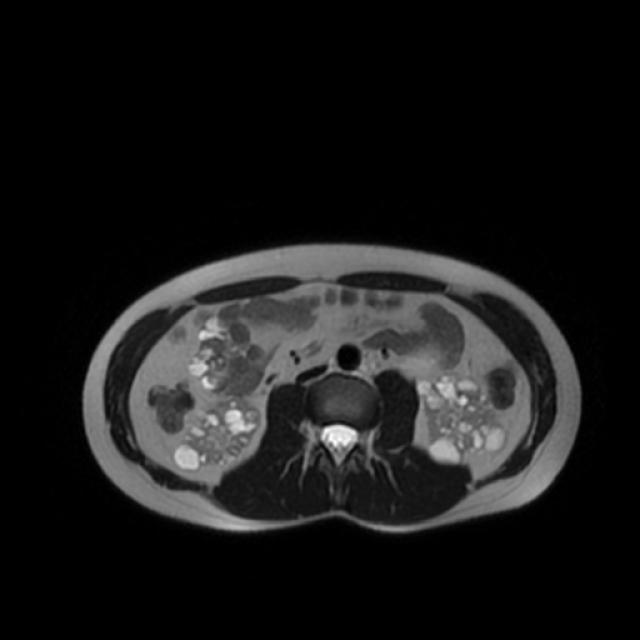sag: (175, 397, 260, 473)
sol: (415, 373, 508, 464)
